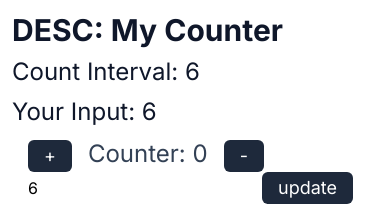
Test case: tests to see if increment and decrement buttons are correcting updating count with correct defaultCountInterval › tests to see if increment button is correcting incrementing count with correct defaultCountInterval › when clicked multiple times, correctly increments count by specified countInterval
The width and height of the screenshot is (370, 221).
Click the button named "increment" at (50, 156), box x1=28 y1=140 x2=72 y2=172
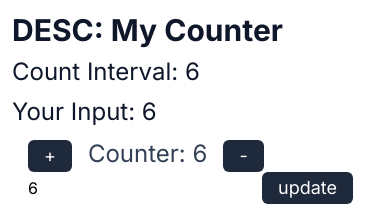
Click the button named "increment" at (50, 156), box x1=28 y1=140 x2=72 y2=172
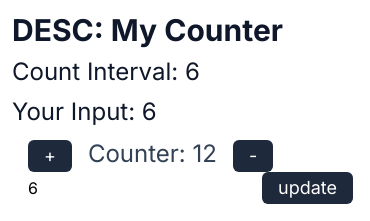
Click the button named "increment" at (50, 156), box x1=28 y1=140 x2=72 y2=172
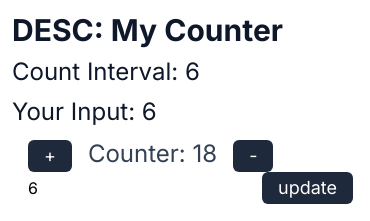
Click the button named "increment" at (50, 156), box x1=28 y1=140 x2=72 y2=172
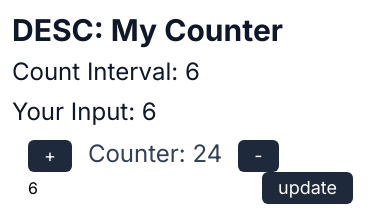
Check: the text "Counter: 24" is shown, box x1=88 y1=139 x2=222 y2=168
